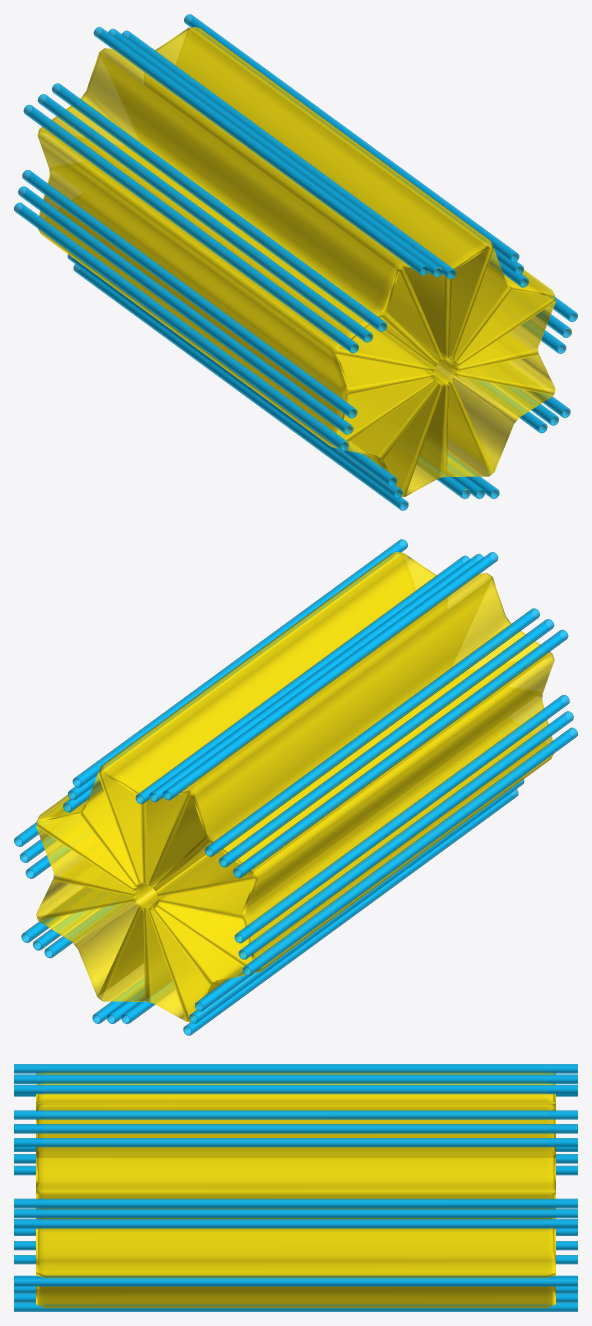
3 views of the same model, one above another, from view 1: azimuth 30°, elevation 25°; view 2: azimuth 150°, elevation 25°; view 3: azimuth 270°, elevation 25° (orthographic). The views are drawn at different scales.
Parts seen in each view (by area): view 1: CENTRIOLE; view 2: CENTRIOLE; view 3: CENTRIOLE.
Boxes of the visible parts, box(x1,y1,x2,y2) form: CENTRIOLE: box(14, 14, 577, 510); CENTRIOLE: box(14, 539, 577, 1035); CENTRIOLE: box(14, 1064, 577, 1311).
Size of the model in its own units: 0.0405 by 0.0407 by 0.096.
1 material, 1 textured.
